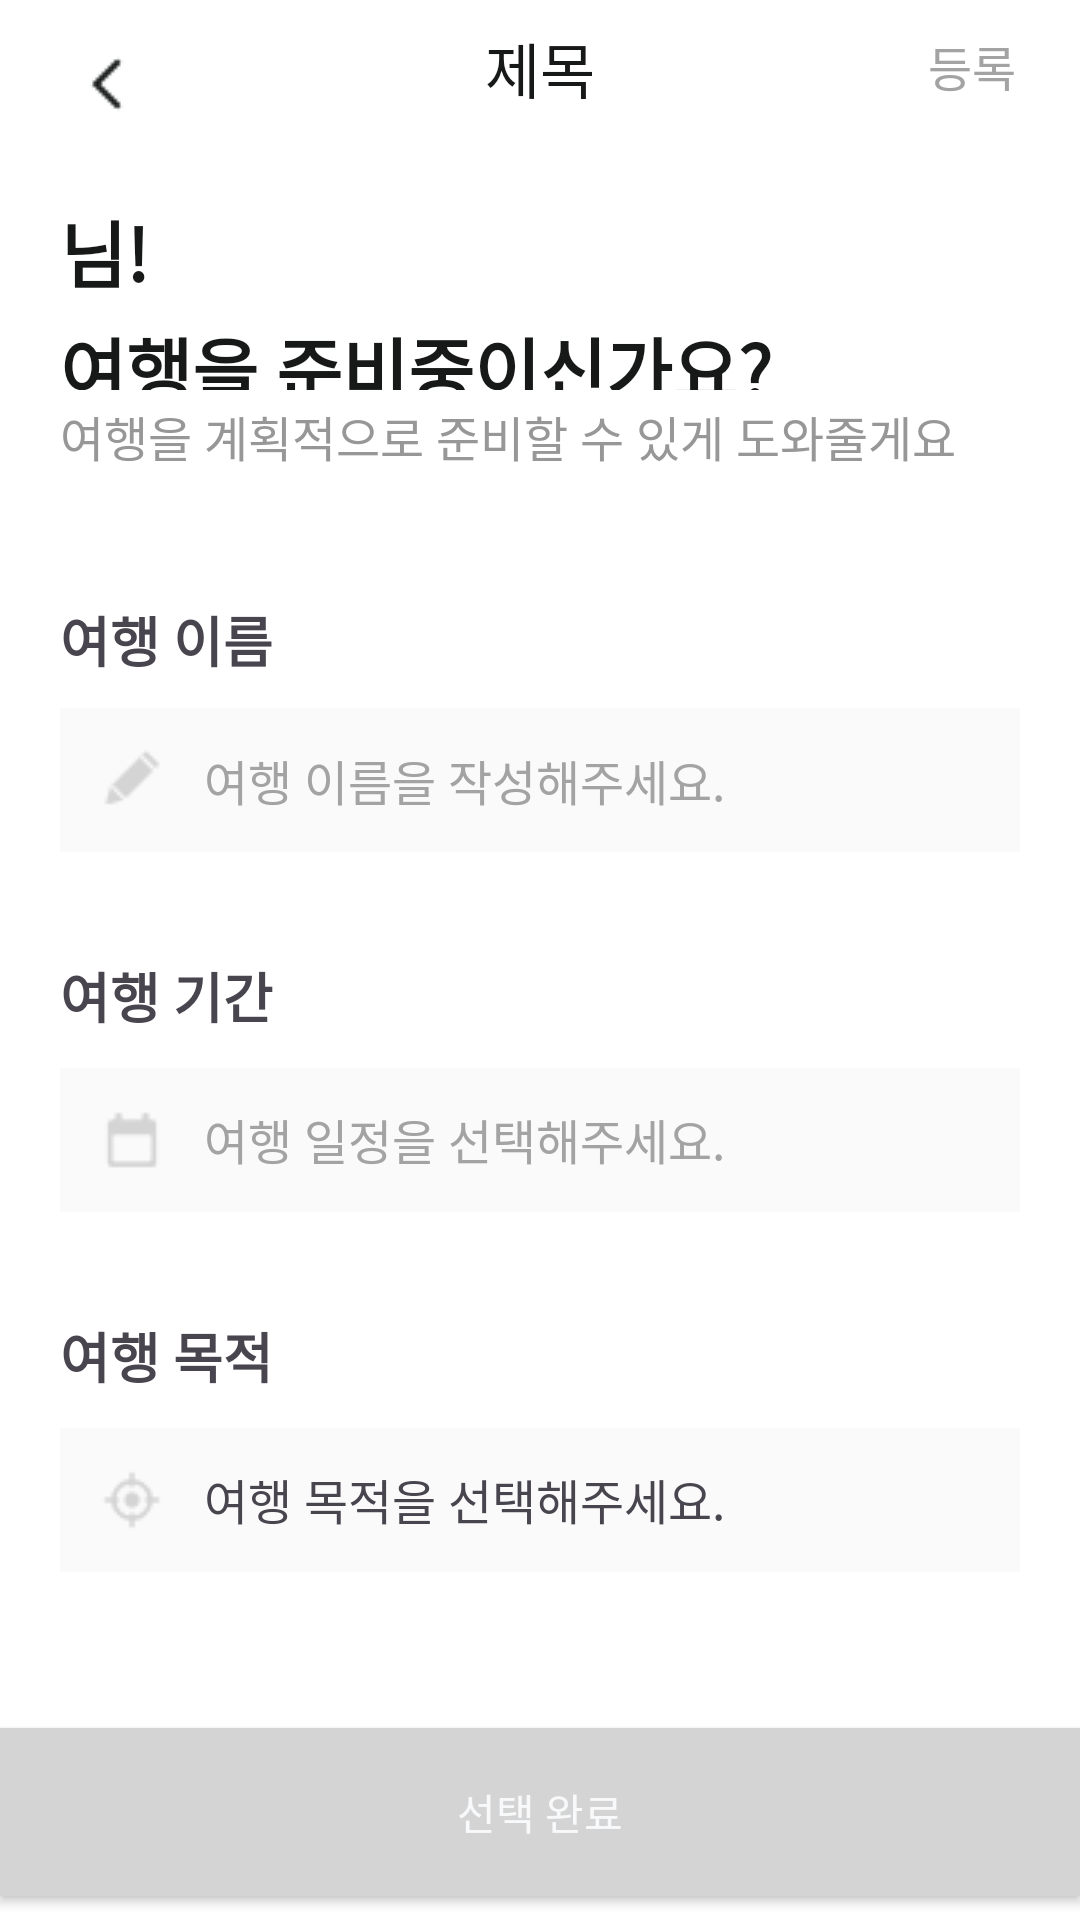

Icon bounding boxes for this 1080w x 1920h phone screenshot, format (x1, y1, x2, y2):
arrow back: (92, 59, 121, 109)
